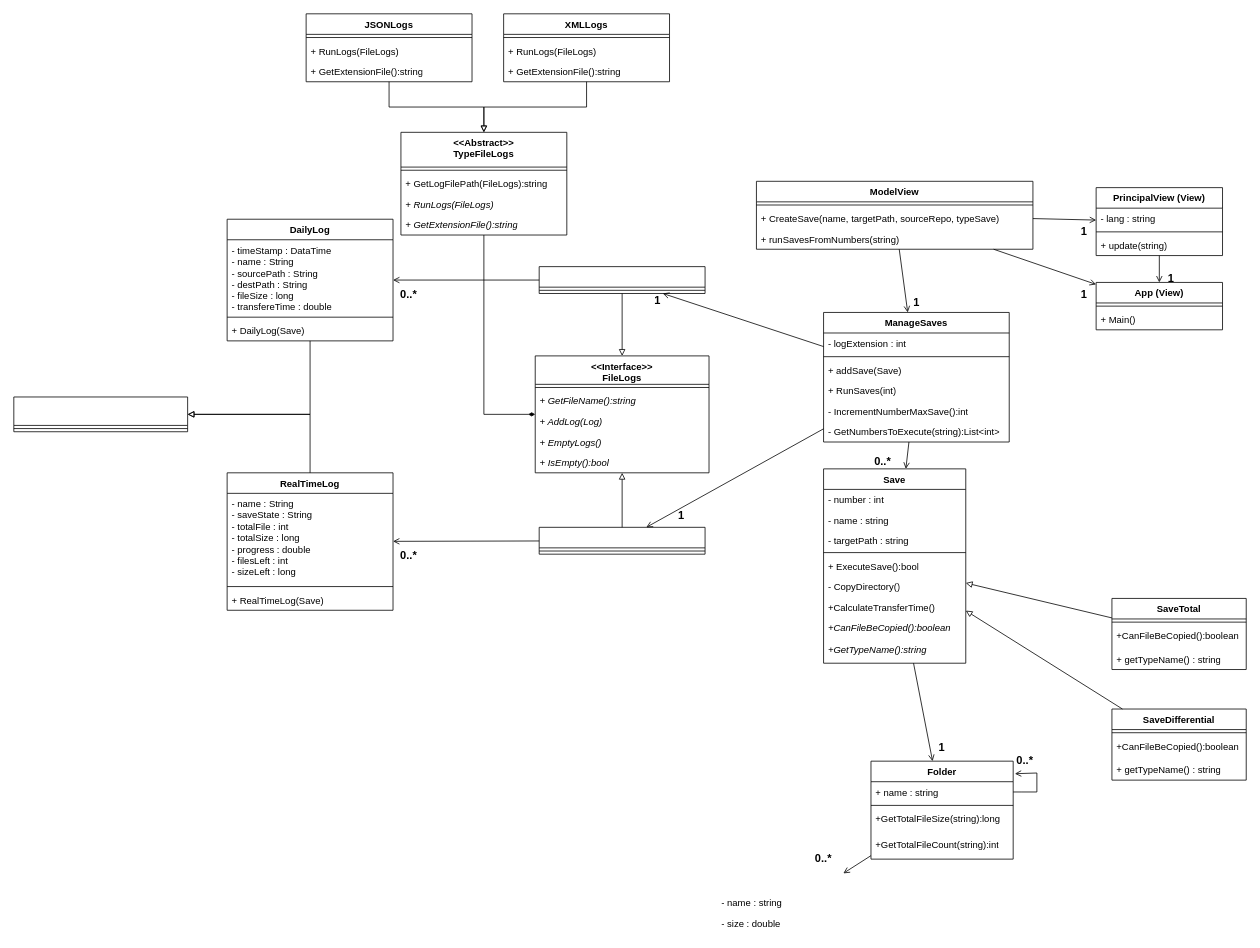
Image size: 1260x948. Some labels were removed from this diagram. Here are the shapes that lost their labels. From the top down, the centre of each, then its label:
At point 621,279: "FileDailyLogs".
At point 100,414: "<<Interface>> Log".
At point 621,540: "FileRTLogs".
